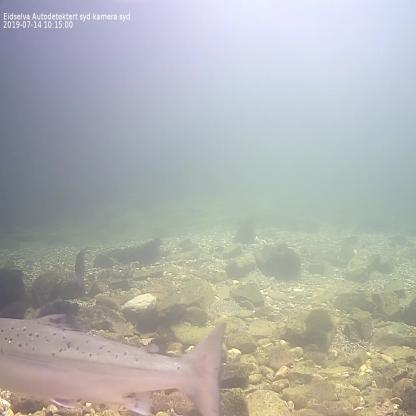salmon: (0, 311, 229, 416)
